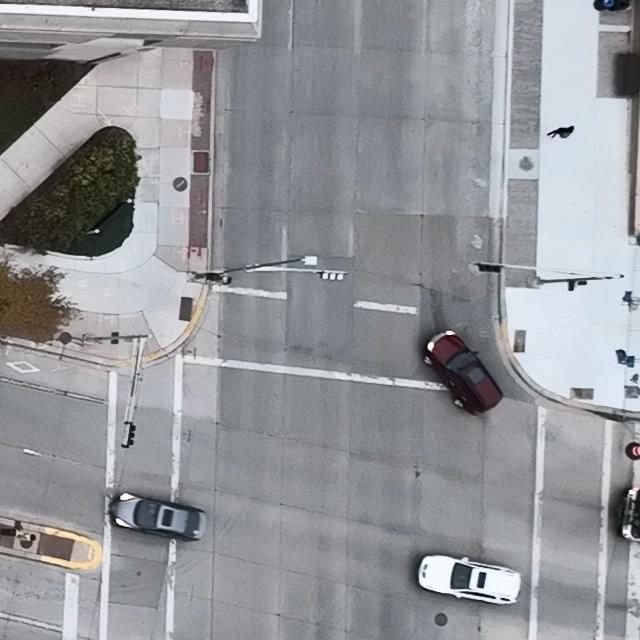car: (422, 329, 503, 415), (416, 553, 521, 605), (108, 492, 206, 542)
